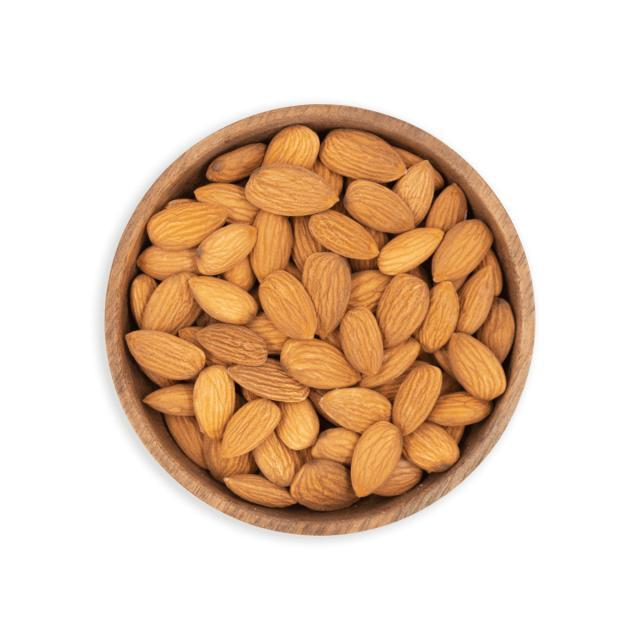almond: (319, 126, 408, 183), (245, 164, 339, 217), (282, 335, 361, 391), (447, 329, 508, 401), (302, 248, 351, 337), (258, 269, 319, 340), (148, 199, 231, 251), (351, 422, 403, 501), (304, 207, 380, 261), (428, 220, 495, 281), (217, 398, 284, 459), (378, 273, 430, 350), (125, 332, 206, 381), (186, 275, 260, 326), (377, 224, 448, 277), (230, 357, 312, 402), (391, 365, 443, 435), (293, 458, 358, 514), (346, 182, 418, 232), (415, 278, 461, 354), (142, 272, 201, 330), (321, 387, 393, 434), (201, 321, 273, 367), (340, 307, 385, 379), (193, 366, 237, 439), (196, 225, 259, 275), (455, 264, 500, 333), (392, 156, 437, 219), (404, 425, 461, 473), (194, 183, 258, 225), (206, 143, 267, 185), (424, 389, 495, 425), (252, 214, 291, 278), (267, 125, 322, 170), (221, 476, 298, 508), (251, 437, 300, 486), (135, 245, 200, 281), (274, 400, 318, 452), (141, 381, 199, 419)
